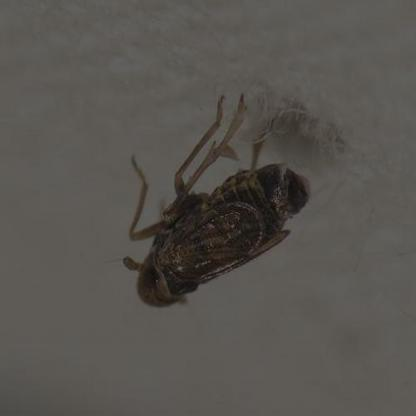brown-planthopper: (133, 97, 318, 308)
